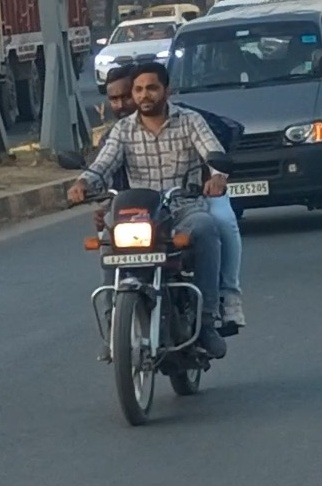BikeWithRider: (50, 53, 254, 432)
NoHelmet: (124, 57, 176, 119), (99, 59, 147, 122)
